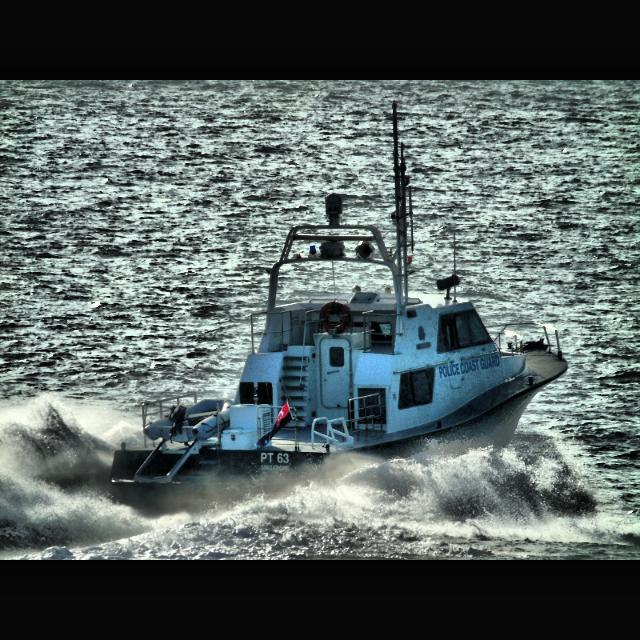patrol_vessel: (102, 171, 572, 515)
